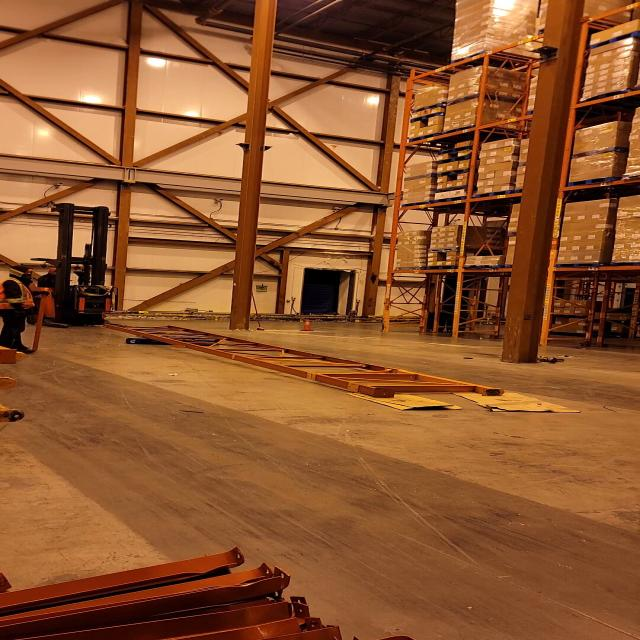forklift: (26, 206, 131, 330)
human: (0, 264, 45, 356), (36, 262, 76, 288)
objectofinterest: (95, 318, 518, 400), (449, 386, 580, 414), (340, 389, 466, 413), (122, 332, 172, 349)
